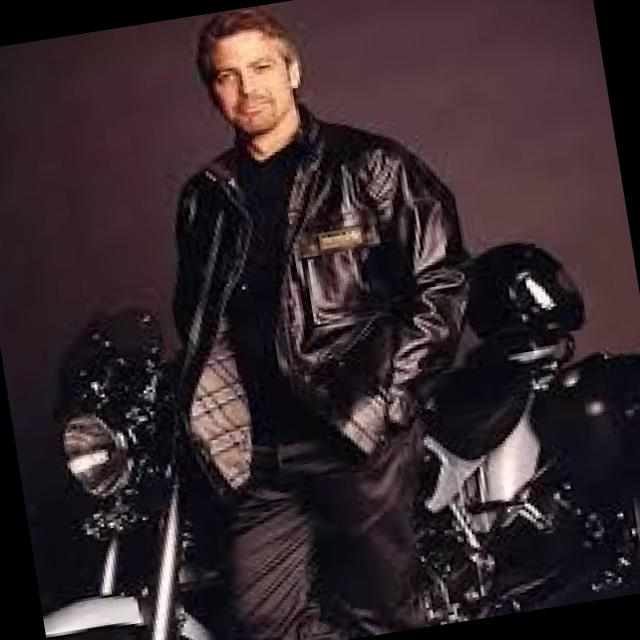Jacket: (128, 92, 514, 517)
